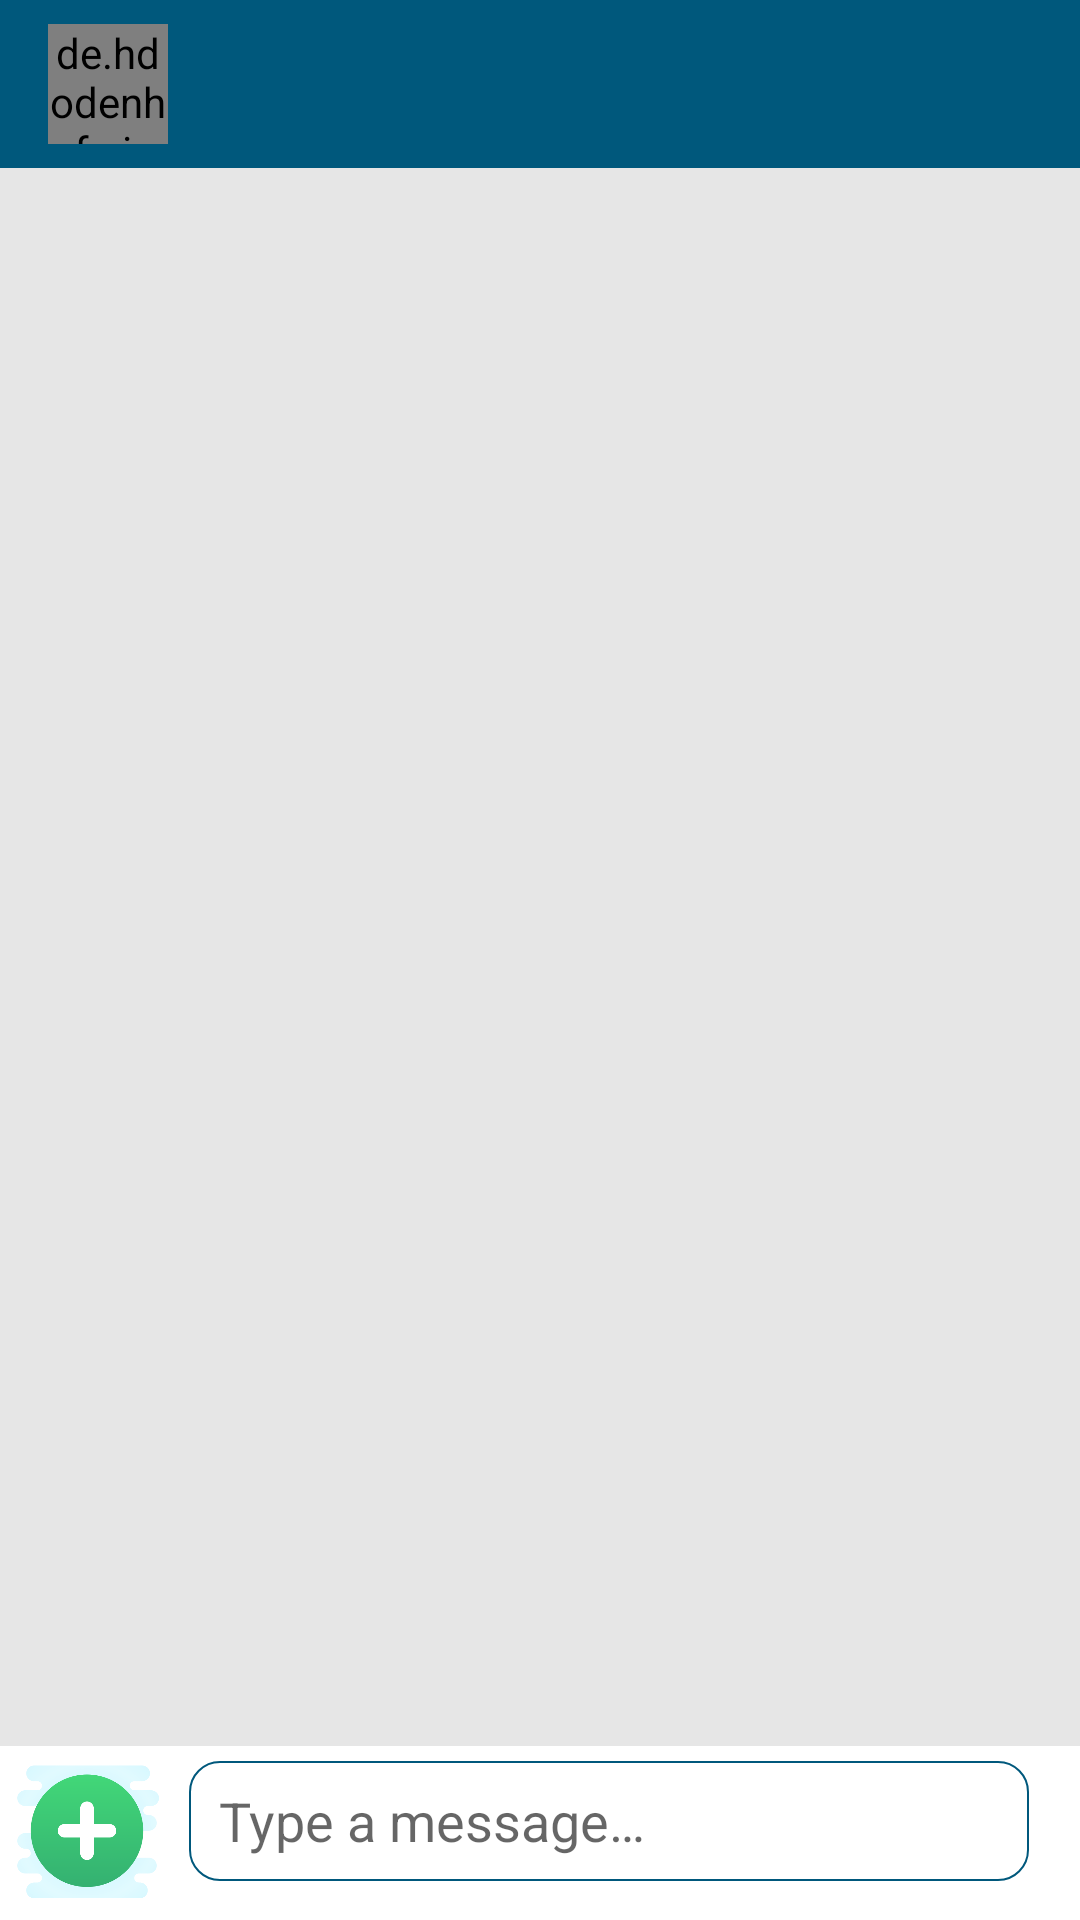

Point at icon controls on the screen. Image size 1080*1920, points as [x,y].
plus: [88,1832]
